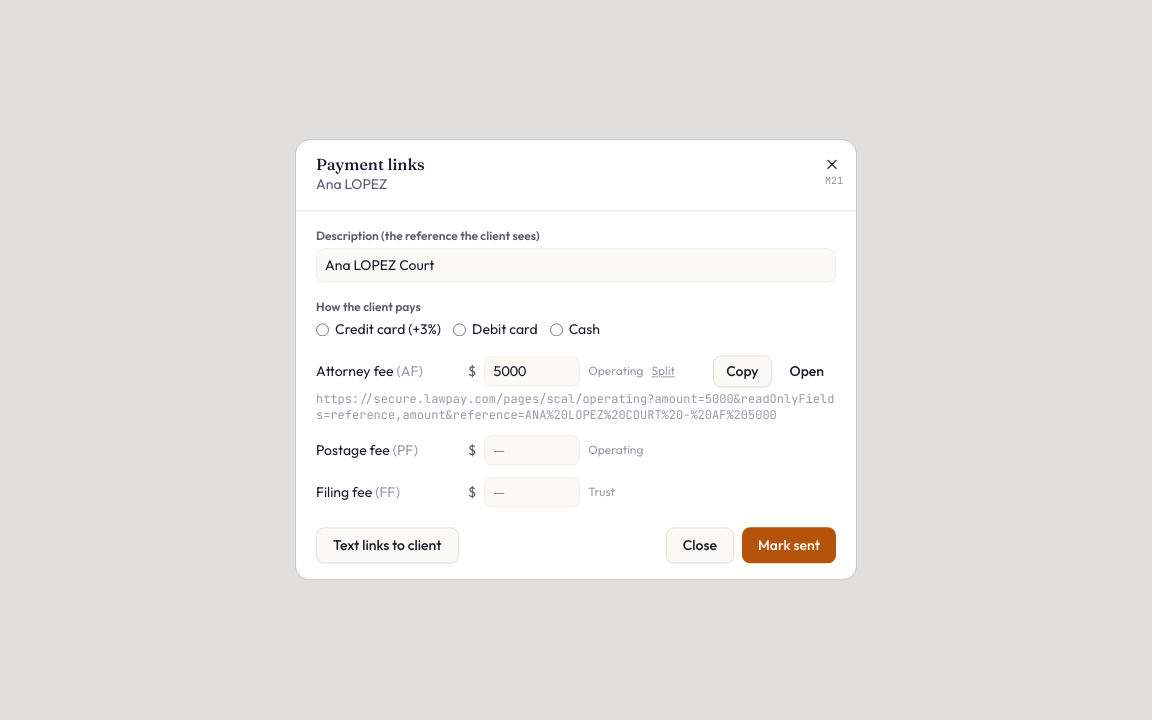
Test: PaymentLinksModal → Text links to client › a failed mark after a live text says the text went and to press Mark sent
Step 1. Click the button "Text links to client" → click(387, 546), box left=316, top=528, right=458, bottom=564
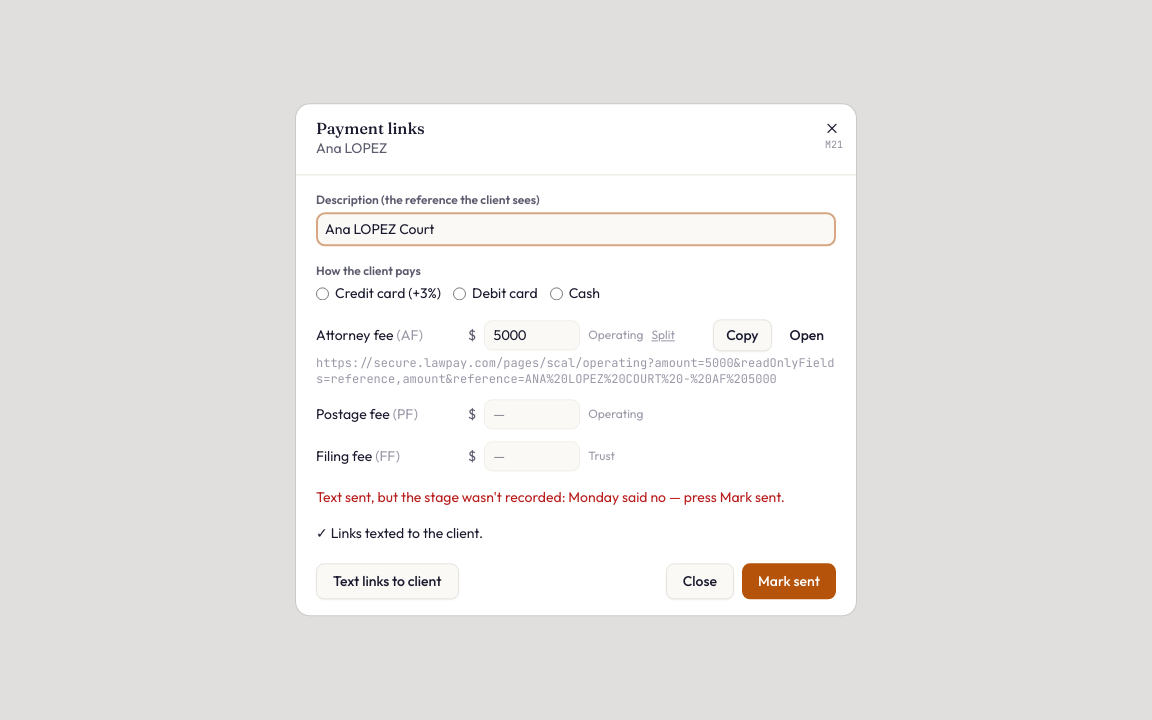
Now the text "Text sent, but the stage wasn't recorded: Monday said no" is shown, box left=316, top=489, right=785, bottom=507
